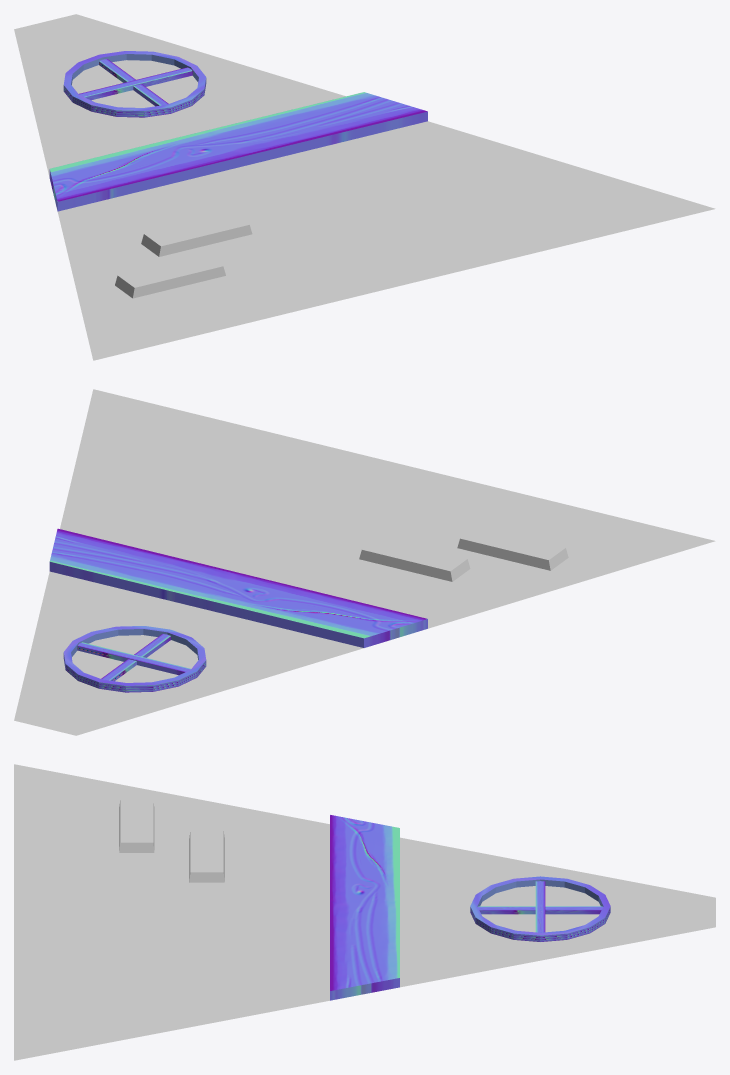
The model's file is SM_RoofWall_B.fbx.
The picture shows the model from 3 angles, top to bottom: view 1: azimuth 30°, elevation 25°; view 2: azimuth 150°, elevation 25°; view 3: azimuth 270°, elevation 25°; orthographic projection. The views are drawn at different scales.
Parts seen in each view (by area): view 1: SM_RoofWall_B; view 2: SM_RoofWall_B; view 3: SM_RoofWall_B.
Part boxes in pixels (x1,y1,x2,y2): SM_RoofWall_B: [14, 14, 715, 360]; SM_RoofWall_B: [14, 389, 715, 735]; SM_RoofWall_B: [14, 764, 715, 1060].
Bounding box in the file's own units: 200 × 3 × 200.
